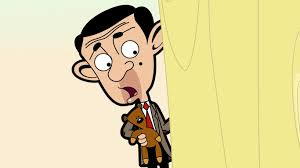mrbean: (71, 3, 174, 167)
